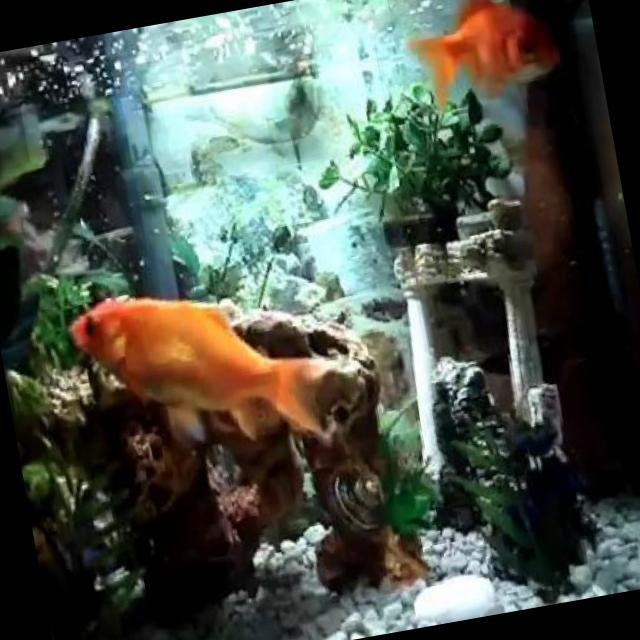GoldFish: (62, 250, 338, 479), (402, 0, 561, 104)
